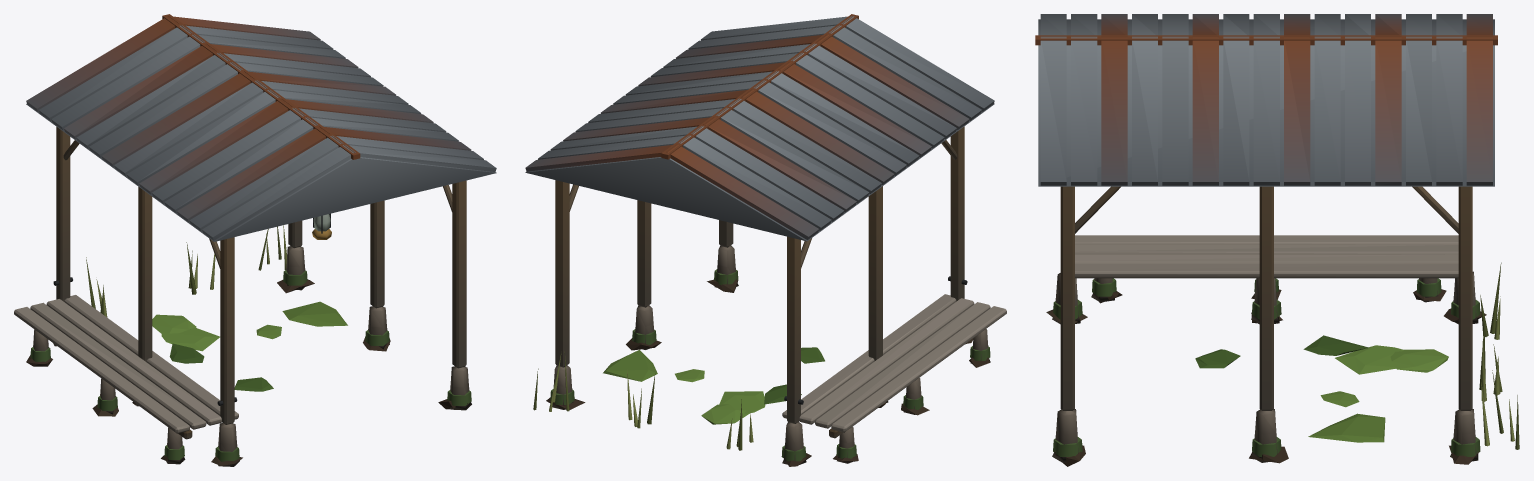
Rendered from boat-house.glb.
3 renders of one model, left to right at view 1: azimuth 30°, elevation 25°; view 2: azimuth 150°, elevation 25°; view 3: azimuth 270°, elevation 25°, orthographic. The views are drawn at different scales.
Parts seen in each view (by area): view 1: boat_house; view 2: boat_house; view 3: boat_house.
Part boxes in pixels (left/top/right/bottom): boat_house: left=14, top=14, right=496, bottom=466; boat_house: left=525, top=14, right=1006, bottom=466; boat_house: left=1035, top=14, right=1519, bottom=466.
Bounding box in the file's own units: 4.26 × 3.86 × 4.77.
